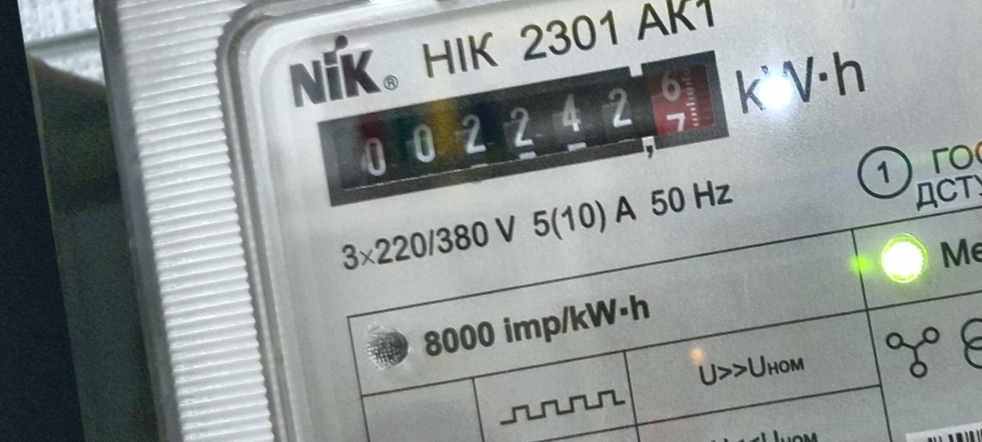0: (409, 120, 440, 166), (362, 133, 391, 180), (460, 111, 490, 156)
2: (605, 84, 636, 131), (508, 103, 538, 150)
4: (556, 90, 586, 137)
6: (658, 68, 686, 104)
7: (665, 110, 691, 136)
screen: (305, 37, 750, 223)
